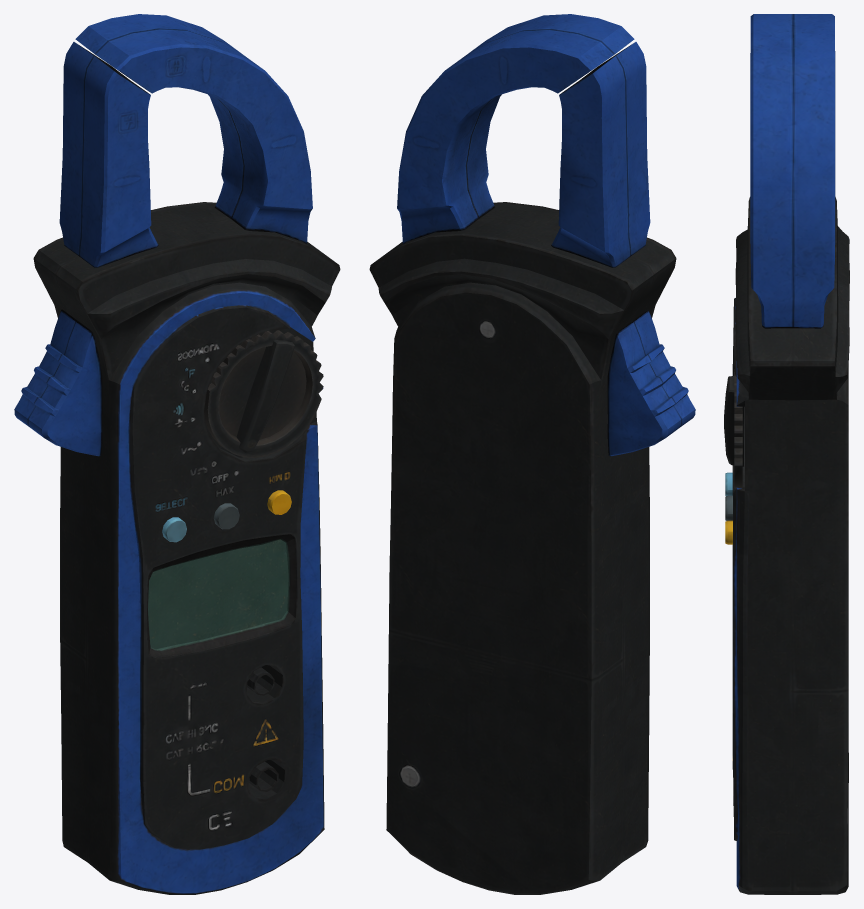
Rendered from ampermeter.fbx.
3 views of the same model, side by side, from view 1: azimuth 30°, elevation 25°; view 2: azimuth 150°, elevation 25°; view 3: azimuth 270°, elevation 25° (orthographic). The views are drawn at different scales.
Visible parts, largest first — view 1: Main1_L_Ammater_0, Parts1_L_Ammater_0, Parts2_L_Ammater_0, Button1_L_Ammater_0, Parts3_L_Ammater_0, Button2_L_Ammater_0; view 2: Main1_L_Ammater_0, Parts1_L_Ammater_0, Parts2_L_Ammater_0, Parts3_L_Ammater_0; view 3: Main1_L_Ammater_0, Parts1_L_Ammater_0, Button1_L_Ammater_0, Button2_L_Ammater_0.
Part boxes in pixels (x1,y1,x2,y2): Main1_L_Ammater_0: (33, 202, 340, 894); Parts1_L_Ammater_0: (75, 14, 312, 243); Parts2_L_Ammater_0: (59, 42, 158, 267); Button1_L_Ammater_0: (204, 330, 323, 457); Parts3_L_Ammater_0: (14, 309, 102, 456); Button2_L_Ammater_0: (162, 490, 291, 542); Main1_L_Ammater_0: (369, 202, 676, 894); Parts1_L_Ammater_0: (397, 14, 634, 243); Parts2_L_Ammater_0: (551, 42, 650, 267); Parts3_L_Ammater_0: (607, 309, 695, 456); Main1_L_Ammater_0: (732, 197, 849, 894); Parts1_L_Ammater_0: (750, 14, 835, 328); Button1_L_Ammater_0: (724, 369, 743, 487); Button2_L_Ammater_0: (725, 472, 732, 544).
Size of the model in its own units: 156 by 438 by 60.82.
Materials: 1 (1 with a texture image).
